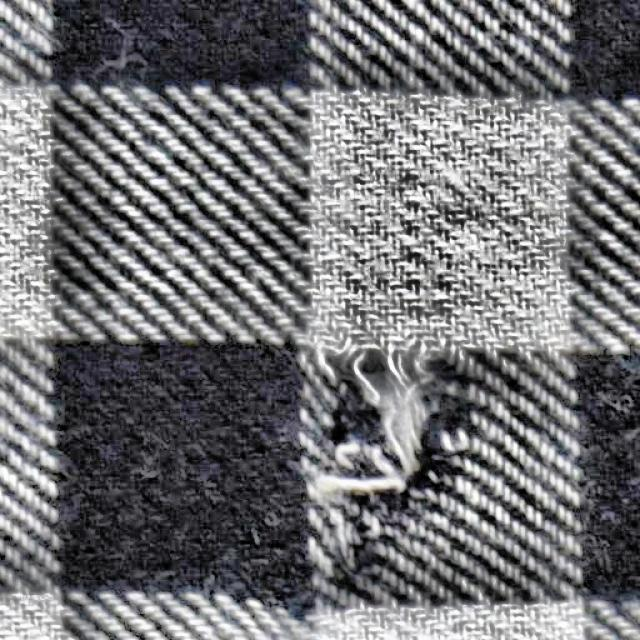cut: (277, 349, 485, 599)
